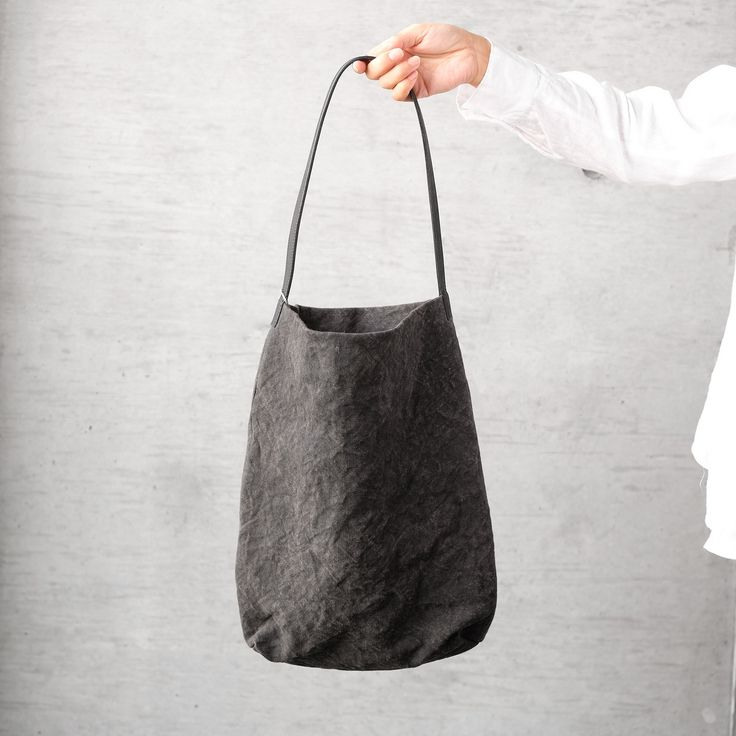nylon: (234, 54, 494, 671)
